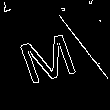M_N: (6, 20, 74, 82)
